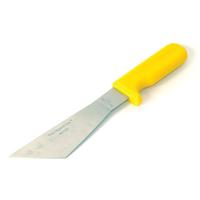knife: (5, 37, 186, 166)
